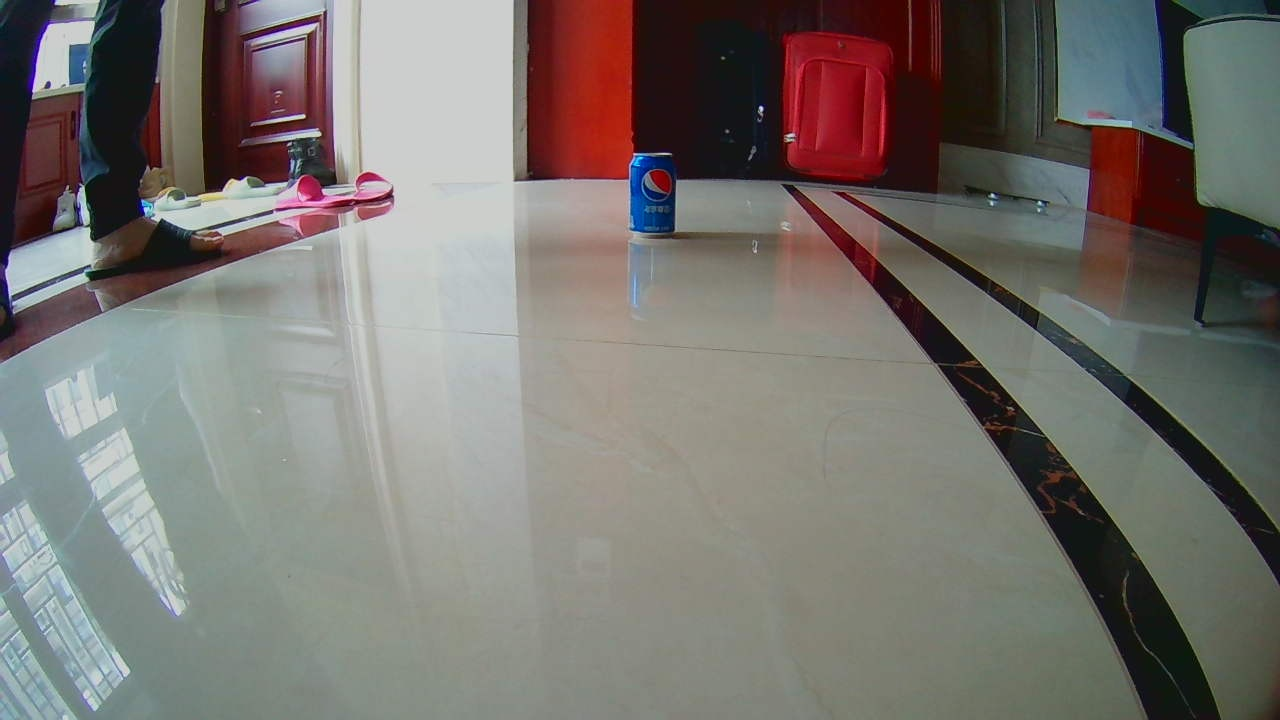pessi: (629, 158, 673, 241)
